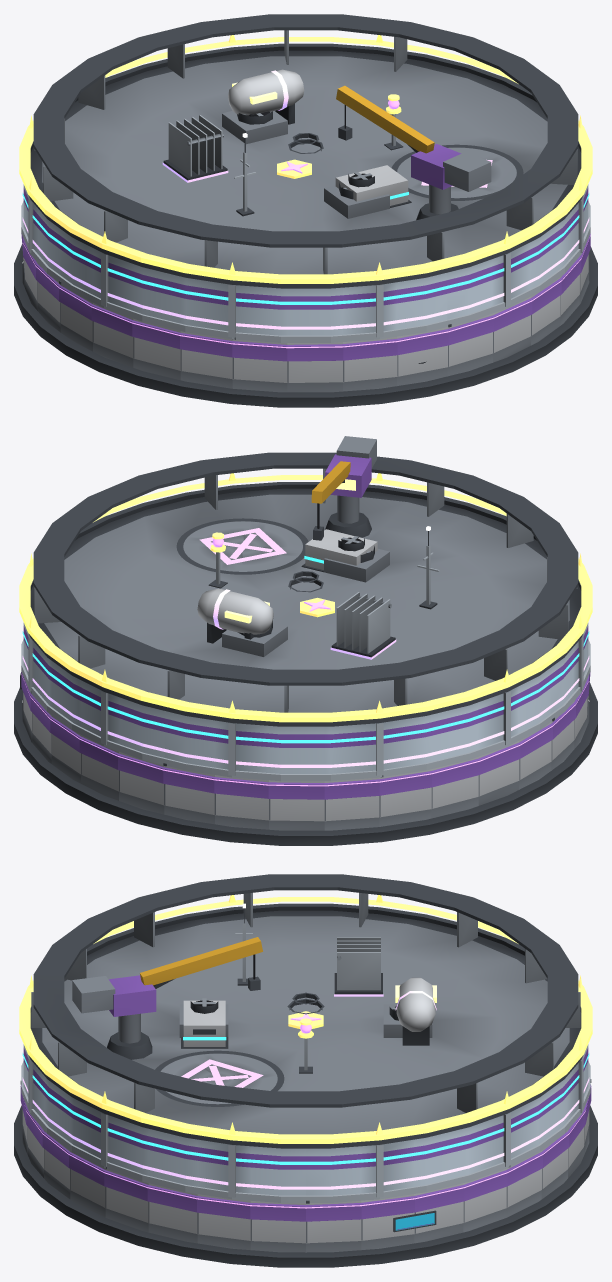
Rendered from cold_storage_m.glb.
3 views of the same model, one above another, from view 1: azimuth 30°, elevation 25°; view 2: azimuth 150°, elevation 25°; view 3: azimuth 270°, elevation 25° (orthographic).
Visible parts, largest first — view 1: Roof, Base, L4, Wall_21, Wall_20, Wall_22, Wall_19, Wall_23, Upper_20, Upper_21, Wall_18, Upper_22 (+24 smaller); view 2: Roof, Base, L4, Wall_10, Wall_11, Wall_09, Wall_12, Wall_08, Upper_11, Wall_13, Upper_09, Upper_10 (+25 smaller); view 3: Roof, Base, L4, Wall_00, Wall_31, Wall_30, Wall_29, Wall_01, Upper_00, Upper_31, L3, Upper_01 (+25 smaller).
Part boxes in pixels (left/top/right/bottom): Roof: left=29, top=14, right=582, bottom=288; Base: left=14, top=244, right=597, bottom=407; L4: left=162, top=69, right=304, bottom=182; Wall_21: left=287, top=342, right=343, bottom=392; Wall_20: left=232, top=337, right=287, bottom=392; Wall_22: left=343, top=337, right=397, bottom=391; Wall_19: left=179, top=331, right=232, bottom=388; Wall_23: left=397, top=327, right=448, bottom=385; Upper_20: left=232, top=285, right=287, bottom=337; Upper_21: left=287, top=287, right=342, bottom=335; Wall_18: left=132, top=318, right=180, bottom=380; Upper_22: left=343, top=282, right=396, bottom=337; Roof: left=29, top=436, right=582, bottom=726; Base: left=14, top=682, right=597, bottom=845; L4: left=197, top=588, right=396, bottom=659; Wall_10: left=268, top=780, right=324, bottom=830; Wall_11: left=324, top=777, right=379, bottom=830; Wall_09: left=214, top=775, right=268, bottom=829; Wall_12: left=379, top=769, right=432, bottom=826; Wall_08: left=163, top=763, right=214, bottom=824; Upper_11: left=324, top=723, right=379, bottom=775; Wall_13: left=431, top=757, right=479, bottom=818; Upper_09: left=215, top=720, right=268, bottom=775; Upper_10: left=269, top=726, right=324, bottom=773; Roof: left=29, top=874, right=582, bottom=1148; Base: left=14, top=1105, right=597, bottom=1267; L4: left=334, top=937, right=436, bottom=1045; Wall_00: left=306, top=1200, right=361, bottom=1252; Wall_31: left=250, top=1201, right=305, bottom=1252; Wall_30: left=196, top=1194, right=250, bottom=1249; Wall_29: left=147, top=1183, right=197, bottom=1243; Wall_01: left=361, top=1194, right=415, bottom=1249; Upper_00: left=306, top=1146, right=360, bottom=1195; Upper_31: left=251, top=1146, right=305, bottom=1195; L3: left=181, top=992, right=319, bottom=1048; Upper_01: left=361, top=1139, right=413, bottom=1197.
Bounding box in the file's own units: 13.25 × 5.29 × 13.25.
